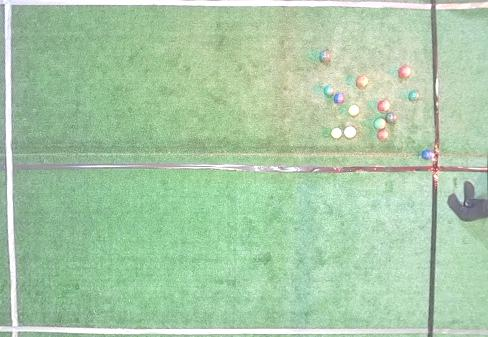blue: (334, 93, 345, 104), (422, 150, 432, 161)
green: (319, 50, 332, 63), (373, 117, 386, 129), (324, 85, 335, 96), (409, 91, 420, 101), (386, 113, 396, 123)
red: (398, 65, 411, 78), (377, 99, 390, 112), (356, 75, 368, 88), (344, 126, 356, 139), (377, 129, 388, 140)
vline: (427, 1, 488, 336), (0, 1, 20, 336)
white: (431, 153, 435, 157)
yellow: (348, 105, 359, 115), (331, 128, 342, 138)
